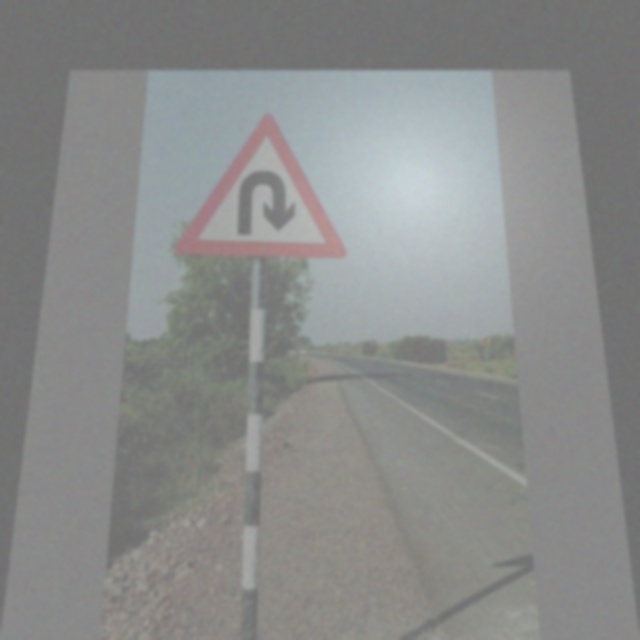Right_Hair_Pin_Bend: (186, 112, 344, 257)
